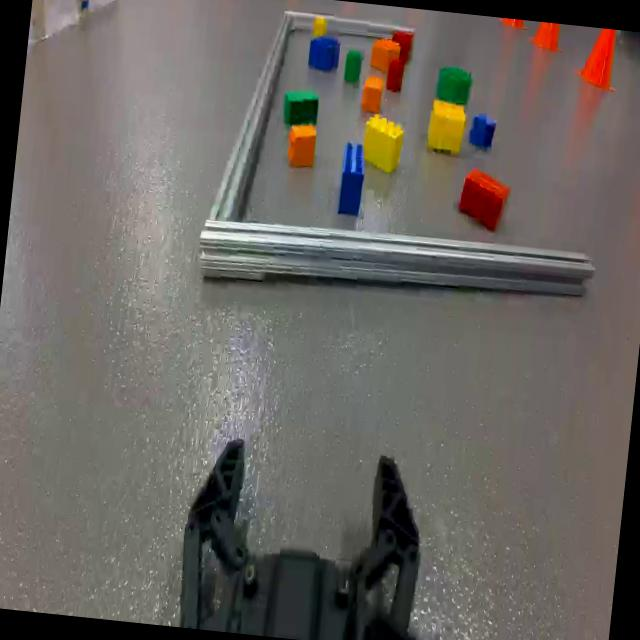block: (361, 122, 404, 177), (428, 104, 469, 156), (316, 18, 328, 32)
blue: (338, 140, 368, 213), (308, 41, 339, 72), (472, 114, 497, 144)
cone: (589, 30, 619, 94)
green: (284, 90, 323, 126), (439, 68, 470, 102), (350, 54, 363, 78)
metal barrier: (196, 8, 594, 298)
orange: (288, 130, 320, 162), (372, 36, 401, 69), (363, 79, 383, 108)
red goal: (460, 177, 511, 229), (386, 56, 408, 94)
